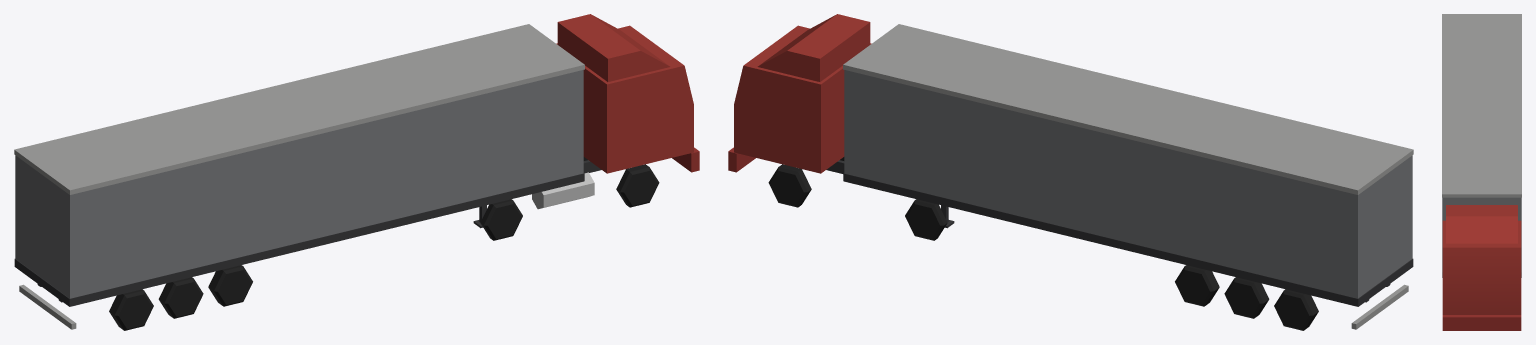
The model's file is SM_Prop_services_lorry_1_LOD2.glb.
3 renders of one model, left to right at view 1: azimuth 30°, elevation 25°; view 2: azimuth 150°, elevation 25°; view 3: azimuth 270°, elevation 25°, orthographic. The views are drawn at different scales.
Visible parts, largest first — view 1: SM_Prop_services_lorry_1_LOD2; view 2: SM_Prop_services_lorry_1_LOD2; view 3: SM_Prop_services_lorry_1_LOD2.
Boxes of the visible parts, box(x1,y1,x2,y2) form: SM_Prop_services_lorry_1_LOD2: box(14, 14, 699, 330); SM_Prop_services_lorry_1_LOD2: box(728, 14, 1413, 330); SM_Prop_services_lorry_1_LOD2: box(1442, 14, 1521, 330).
Bounding box in the file's own units: 16.65 × 3.93 × 2.55.
